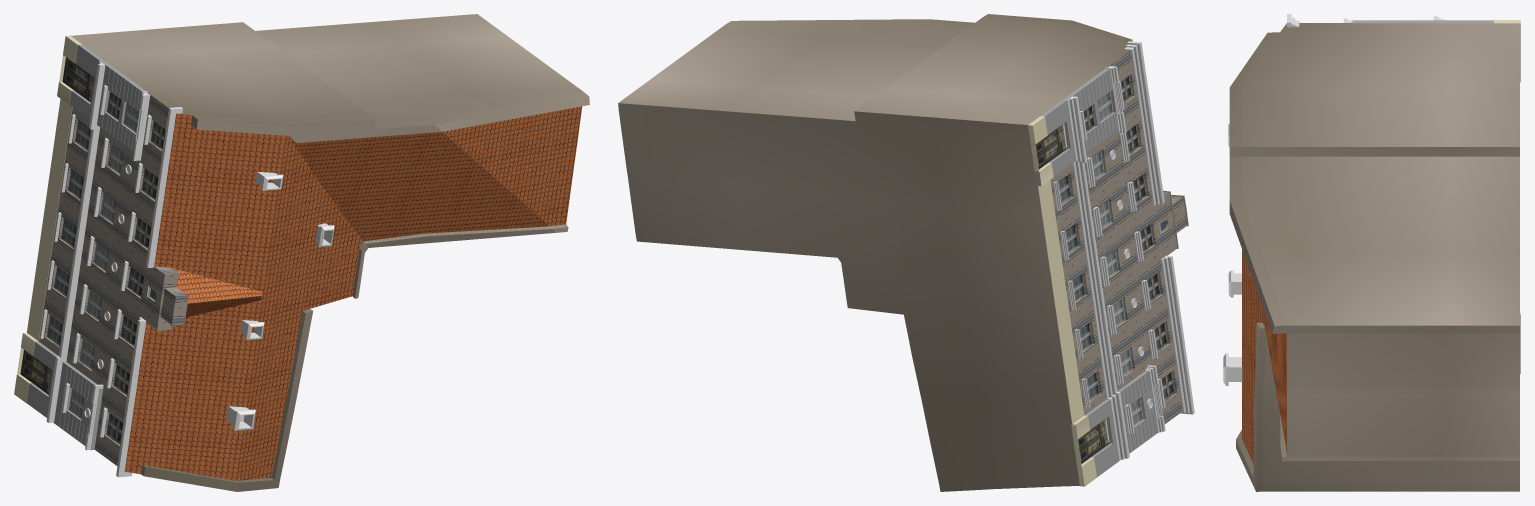
The model's file is VanaViru4.obj.
The picture shows the model from 3 angles, left to right: view 1: azimuth 30°, elevation 25°; view 2: azimuth 150°, elevation 25°; view 3: azimuth 270°, elevation 25°; orthographic projection. The views are drawn at different scales.
Parts seen in each view (by area): view 1: Line16; view 2: Line16; view 3: Line16.
Boxes of the visible parts, x1=… form: Line16: x1=14, y1=14, x2=589, y2=491; Line16: x1=618, y1=14, x2=1194, y2=491; Line16: x1=1223, y1=14, x2=1520, y2=491.
Bounding box in the file's own units: 28.31 × 22.59 × 14.22.
